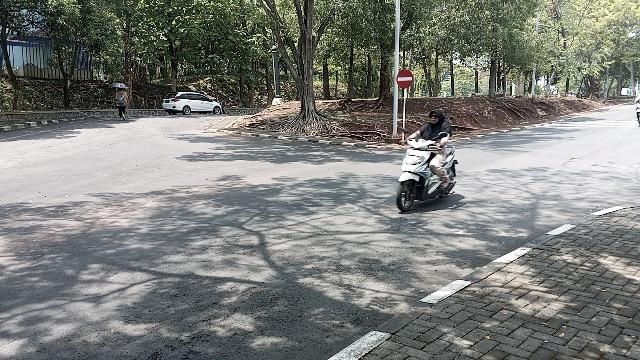motor: (396, 129, 460, 214)
non-helm: (430, 110, 444, 125)
